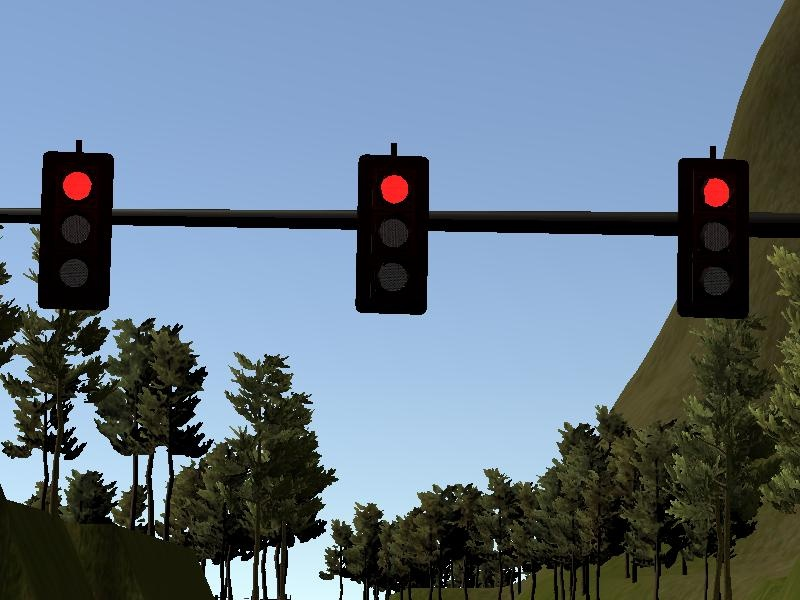red: (355, 149, 432, 314), (675, 154, 750, 318), (41, 145, 110, 315)
